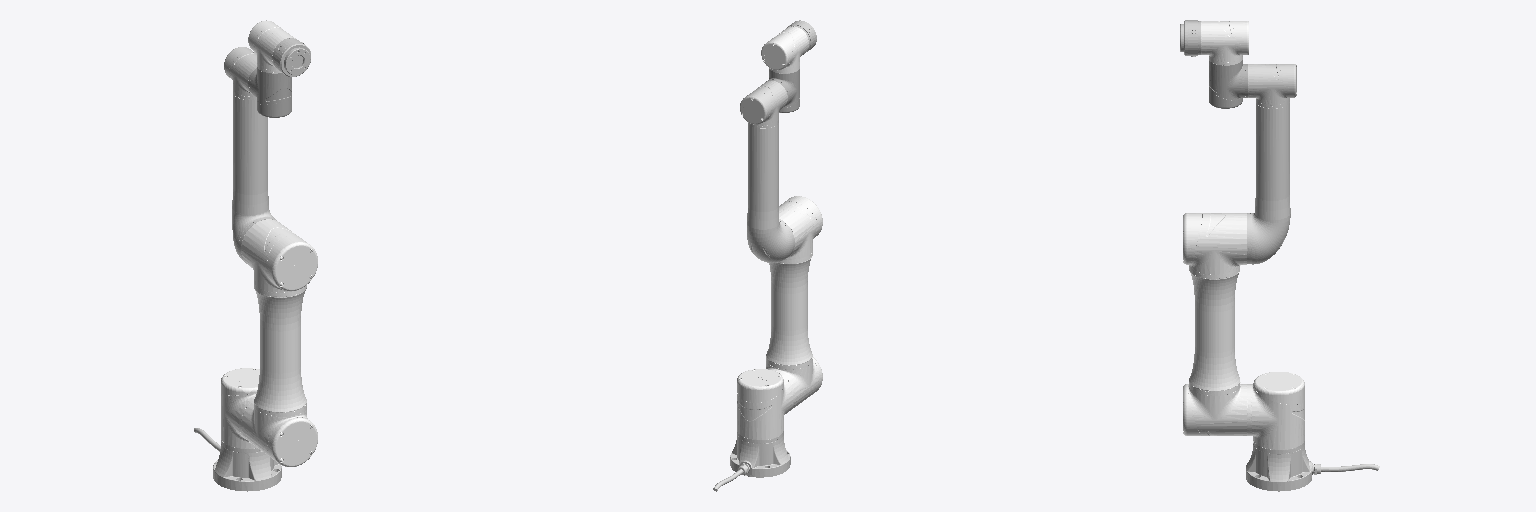
The robot description file, URDF, robot "C6":
<?xml version="1.0" encoding="utf-8" ?>
<!-- This URDF was automatically created by SolidWorks to URDF Exporter! Originally created by [author] ([email redacted]) 
     Commit Version: 1.6.0-4-g7f85cfe  Build Version: 1.6.7995.38578
     For more information, please see http://wiki.ros.org/sw_urdf_exporter -->
<robot name="C6">
    <link name="C6_base">
        <inertial>
            <origin xyz="0.000136 0.001601 0.018986" rpy="0 0 0" />
            <mass value="2.592" />
            <inertia ixx="0.008524" ixy="-0.000001" ixz="-0.000005" iyy="0.007934" iyz="-0.000081" izz="0.015304" />
        </inertial>
        <visual>
            <origin xyz="0 0 0" rpy="0 0 0" />
            <geometry>
                <mesh filename="package://cgx_description/meshes/C6_base.STL" />
            </geometry>
            <material name="">
                <color rgba="0.89412 0.89412 0.89412 1" />
            </material>
        </visual>
        <collision>
            <origin xyz="0 0 0" rpy="0 0 0" />
            <geometry>
                <mesh filename="package://cgx_description/meshes/C6_base.STL" />
            </geometry>
        </collision>
    </link>
    <link name="C6_link1">
        <inertial>
            <origin xyz="-0.000004 0.005112 -0.026275" rpy="0 0 0" />
            <mass value="10.180139" />
            <inertia ixx="0.043326" ixy="0.000003" ixz="0.000003" iyy="0.042233" iyz="-0.001767" izz="0.029902" />
        </inertial>
        <visual>
            <origin xyz="0 0 0" rpy="0 0 0" />
            <geometry>
                <mesh filename="package://cgx_description/meshes/C6_link1.STL" />
            </geometry>
            <material name="">
                <color rgba="1 1 1 1" />
            </material>
        </visual>
        <collision>
            <origin xyz="0 0 0" rpy="0 0 0" />
            <geometry>
                <mesh filename="package://cgx_description/meshes/C6_link1.STL" />
            </geometry>
        </collision>
    </link>
    <joint name="C6_joint1" type="revolute">
        <origin xyz="0 0 0.1675" rpy="0 0 0" />
        <parent link="C6_base" />
        <child link="C6_link1" />
        <axis xyz="0 0 1" />
        <limit lower="-6.2832" upper="6.2832" effort="175" velocity="3.1416" />
    </joint>
    <link name="C6_link2">
        <inertial>
            <origin xyz="0.231117 -0.000013 -0.022852" rpy="0 0 0" />
            <mass value="18.096361" />
            <inertia ixx="0.064904" ixy="0.00003" ixz="-0.033711" iyy="1.524623" iyz="0.000015" izz="1.505664" />
        </inertial>
        <visual>
            <origin xyz="0 0 0" rpy="0 0 0" />
            <geometry>
                <mesh filename="package://cgx_description/meshes/C6_link2.STL" />
            </geometry>
            <material name="">
                <color rgba="1 1 1 1" />
            </material>
        </visual>
        <collision>
            <origin xyz="0 0 0" rpy="0 0 0" />
            <geometry>
                <mesh filename="package://cgx_description/meshes/C6_link2.STL" />
            </geometry>
        </collision>
    </link>
    <joint name="C6_joint2" type="revolute">
        <origin xyz="0 0 0" rpy="1.5708 -1.5708 0" />
        <parent link="C6_link1" />
        <child link="C6_link2" />
        <axis xyz="0 0 1" />
        <limit lower="-6.2832" upper="6.2832" effort="175" velocity="3.1416" />
    </joint>
    <link name="C6_link3">
        <inertial>
            <origin xyz="0.41956 -0.000019 0.118053" rpy="0 0 0" />
            <mass value="4.448092" />
            <inertia ixx="0.006799" ixy="0.000016" ixz="0.004004" iyy="0.246194" iyz="0.000005" izz="0.24479" />
        </inertial>
        <visual>
            <origin xyz="0 0 0" rpy="0 0 0" />
            <geometry>
                <mesh filename="package://cgx_description/meshes/C6_link3.STL" />
            </geometry>
            <material name="">
                <color rgba="0.89412 0.89412 0.89412 1" />
            </material>
        </visual>
        <collision>
            <origin xyz="0 0 0" rpy="0 0 0" />
            <geometry>
                <mesh filename="package://cgx_description/meshes/C6_link3.STL" />
            </geometry>
        </collision>
    </link>
    <joint name="C6_joint3" type="revolute">
        <origin xyz="0.425 0 0" rpy="0 0 0" />
        <parent link="C6_link2" />
        <child link="C6_link3" />
        <axis xyz="0 0 1" />
        <limit lower="-2.8798" upper="2.8798" effort="175" velocity="3.1416" />
    </joint>
    <link name="C6_link4">
        <inertial>
            <origin xyz="0.000047 0.009773 -0.005726" rpy="0 0 0" />
            <mass value="1.79166" />
            <inertia ixx="0.002457" ixy="0.000004" ixz="0.000001" iyy="0.00159" iyz="-0.000123" izz="0.002183" />
        </inertial>
        <visual>
            <origin xyz="0 0 0" rpy="0 0 0" />
            <geometry>
                <mesh filename="package://cgx_description/meshes/C6_link4.STL" />
            </geometry>
            <material name="">
                <color rgba="0.75294 0.75294 0.75294 1" />
            </material>
        </visual>
        <collision>
            <origin xyz="0 0 0" rpy="0 0 0" />
            <geometry>
                <mesh filename="package://cgx_description/meshes/C6_link4.STL" />
            </geometry>
        </collision>
    </link>
    <joint name="C6_joint4" type="revolute">
        <origin xyz="0.393 0 0.1203" rpy="0 0 -1.5708" />
        <parent link="C6_link3" />
        <child link="C6_link4" />
        <axis xyz="0 0 1" />
        <limit lower="-6.2832" upper="6.2832" effort="30" velocity="3.1416" />
    </joint>
    <link name="C6_link5">
        <inertial>
            <origin xyz="-0.000038 -0.011278 -0.001539" rpy="0 0 0" />
            <mass value="1.628022" />
            <inertia ixx="0.001951" ixy="0.000003" ixz="-0.000001" iyy="0.001154" iyz="0.000042" izz="0.001931" />
        </inertial>
        <visual>
            <origin xyz="0 0 0" rpy="0 0 0" />
            <geometry>
                <mesh filename="package://cgx_description/meshes/C6_link5.STL" />
            </geometry>
            <material name="">
                <color rgba="1 1 1 1" />
            </material>
        </visual>
        <collision>
            <origin xyz="0 0 0" rpy="0 0 0" />
            <geometry>
                <mesh filename="package://cgx_description/meshes/C6_link5.STL" />
            </geometry>
        </collision>
    </link>
    <joint name="C6_joint5" type="revolute">
        <origin xyz="0 0.106 0" rpy="-1.5708 0 0" />
        <parent link="C6_link4" />
        <child link="C6_link5" />
        <axis xyz="0 0 1" />
        <limit lower="-6.2832" upper="6.2832" effort="30" velocity="3.1416" />
    </joint>
    <link name="C6_link6">
        <inertial>
            <origin xyz="0.000022 0.0006 -0.017081" rpy="0 0 0" />
            <mass value="0.1978" />
            <inertia ixx="0.000118" ixy="0" ixz="0" iyy="0.000112" iyz="0.000001" izz="0.000184" />
        </inertial>
        <visual>
            <origin xyz="0 0 0" rpy="0 0 0" />
            <geometry>
                <mesh filename="package://cgx_description/meshes/C6_link6.STL" />
            </geometry>
            <material name="">
                <color rgba="0.85098 0.85098 0.85098 1" />
            </material>
        </visual>
        <collision>
            <origin xyz="0 0 0" rpy="0 0 0" />
            <geometry>
                <mesh filename="package://cgx_description/meshes/C6_link6.STL" />
            </geometry>
        </collision>
    </link>
    <joint name="C6_joint6" type="revolute">
        <origin xyz="0 -0.1026 0" rpy="1.5708 0 0" />
        <parent link="C6_link5" />
        <child link="C6_link6" />
        <axis xyz="0 0 1" />
        <limit lower="-6.2832" upper="6.2832" effort="30" velocity="3.1416" />
    </joint>


    <link name="world" />

    <joint name="world_joint" type="fixed">
        <parent link="world" />
        <child link = "C6_base" />
        <origin xyz="0.0 0.0 0.0" rpy="0.0 0.0 0.0" />
    </joint>


    <transmission name="trans_C6_joint1">
        <type>transmission_interface/SimpleTransmission</type>
        <joint name="C6_joint1">
            <hardwareInterface>hardware_interface/PositionJointInterface</hardwareInterface>
        </joint>
        <actuator name="C6_joint1_motor">
            <hardwareInterface>hardware_interface/PositionJointInterface</hardwareInterface>
            <mechanicalReduction>1</mechanicalReduction>
        </actuator>
    </transmission>
    <transmission name="trans_C6_joint2">
        <type>transmission_interface/SimpleTransmission</type>
        <joint name="C6_joint2">
            <hardwareInterface>hardware_interface/PositionJointInterface</hardwareInterface>
        </joint>
        <actuator name="C6_joint2_motor">
            <hardwareInterface>hardware_interface/PositionJointInterface</hardwareInterface>
            <mechanicalReduction>1</mechanicalReduction>
        </actuator>
    </transmission>
    <transmission name="trans_C6_joint3">
        <type>transmission_interface/SimpleTransmission</type>
        <joint name="C6_joint3">
            <hardwareInterface>hardware_interface/PositionJointInterface</hardwareInterface>
        </joint>
        <actuator name="C6_joint3_motor">
            <hardwareInterface>hardware_interface/PositionJointInterface</hardwareInterface>
            <mechanicalReduction>1</mechanicalReduction>
        </actuator>
    </transmission>
    <transmission name="trans_C6_joint4">
        <type>transmission_interface/SimpleTransmission</type>
        <joint name="C6_joint4">
            <hardwareInterface>hardware_interface/PositionJointInterface</hardwareInterface>
        </joint>
        <actuator name="C6_joint4_motor">
            <hardwareInterface>hardware_interface/PositionJointInterface</hardwareInterface>
            <mechanicalReduction>1</mechanicalReduction>
        </actuator>
    </transmission>
    <transmission name="trans_C6_joint5">
        <type>transmission_interface/SimpleTransmission</type>
        <joint name="C6_joint5">
            <hardwareInterface>hardware_interface/PositionJointInterface</hardwareInterface>
        </joint>
        <actuator name="C6_joint5_motor">
            <hardwareInterface>hardware_interface/PositionJointInterface</hardwareInterface>
            <mechanicalReduction>1</mechanicalReduction>
        </actuator>
    </transmission>
    <transmission name="trans_C6_joint6">
        <type>transmission_interface/SimpleTransmission</type>
        <joint name="C6_joint6">
            <hardwareInterface>hardware_interface/PositionJointInterface</hardwareInterface>
        </joint>
        <actuator name="C6_joint6_motor">
            <hardwareInterface>hardware_interface/PositionJointInterface</hardwareInterface>
            <mechanicalReduction>1</mechanicalReduction>
        </actuator>
    </transmission>




    <gazebo>
        <plugin name="gazebo_ros_control" filename="libgazebo_ros_control.so">
            <robotNamespace>/</robotNamespace>
        </plugin>
    </gazebo>
</robot>

--- Render facts (derived) ---
3 views of the same robot in one strip: view 1: azimuth 30°, elevation 25°; view 2: azimuth 150°, elevation 25°; view 3: azimuth 270°, elevation 25° (orthographic).
Model C6 with 8 links and 7 joints (6 revolute, 1 fixed), rooted at world, posed all joints at 0.
Links seen in each view (by area): view 1: C6_link2, C6_link3, C6_base, C6_link1, C6_link4, C6_link5, C6_link6; view 2: C6_link2, C6_link3, C6_link1, C6_base, C6_link5, C6_link4; view 3: C6_link2, C6_link3, C6_link1, C6_base, C6_link5, C6_link4, C6_link6.
Link boxes in pixels (x1=…): C6_link2: x1=241, y1=219, x2=317, y2=466; C6_link3: x1=224, y1=47, x2=276, y2=263; C6_base: x1=194, y1=428, x2=281, y2=491; C6_link1: x1=221, y1=368, x2=259, y2=448; C6_link4: x1=248, y1=67, x2=291, y2=117; C6_link5: x1=248, y1=20, x2=295, y2=72; C6_link6: x1=272, y1=38, x2=310, y2=76; C6_link2: x1=766, y1=196, x2=822, y2=410; C6_link3: x1=740, y1=81, x2=794, y2=262; C6_link1: x1=737, y1=369, x2=794, y2=439; C6_base: x1=713, y1=431, x2=790, y2=491; C6_link5: x1=761, y1=26, x2=808, y2=73; C6_link4: x1=766, y1=69, x2=799, y2=112; C6_link2: x1=1183, y1=213, x2=1246, y2=435; C6_link3: x1=1247, y1=64, x2=1296, y2=264; C6_link1: x1=1247, y1=372, x2=1304, y2=449; C6_base: x1=1246, y1=440, x2=1379, y2=491; C6_link5: x1=1201, y1=21, x2=1248, y2=65; C6_link4: x1=1209, y1=60, x2=1247, y2=108; C6_link6: x1=1180, y1=20, x2=1200, y2=56.
Bounding box of the posed robot: 0.15 × 0.4498 × 1.13 m (x, y, z).
7 mesh visuals loaded from 7 distinct referenced files (7 binary STL).